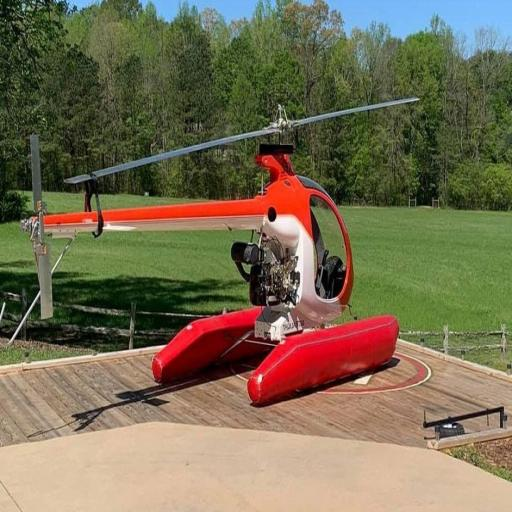helicopter: (25, 78, 432, 418)
